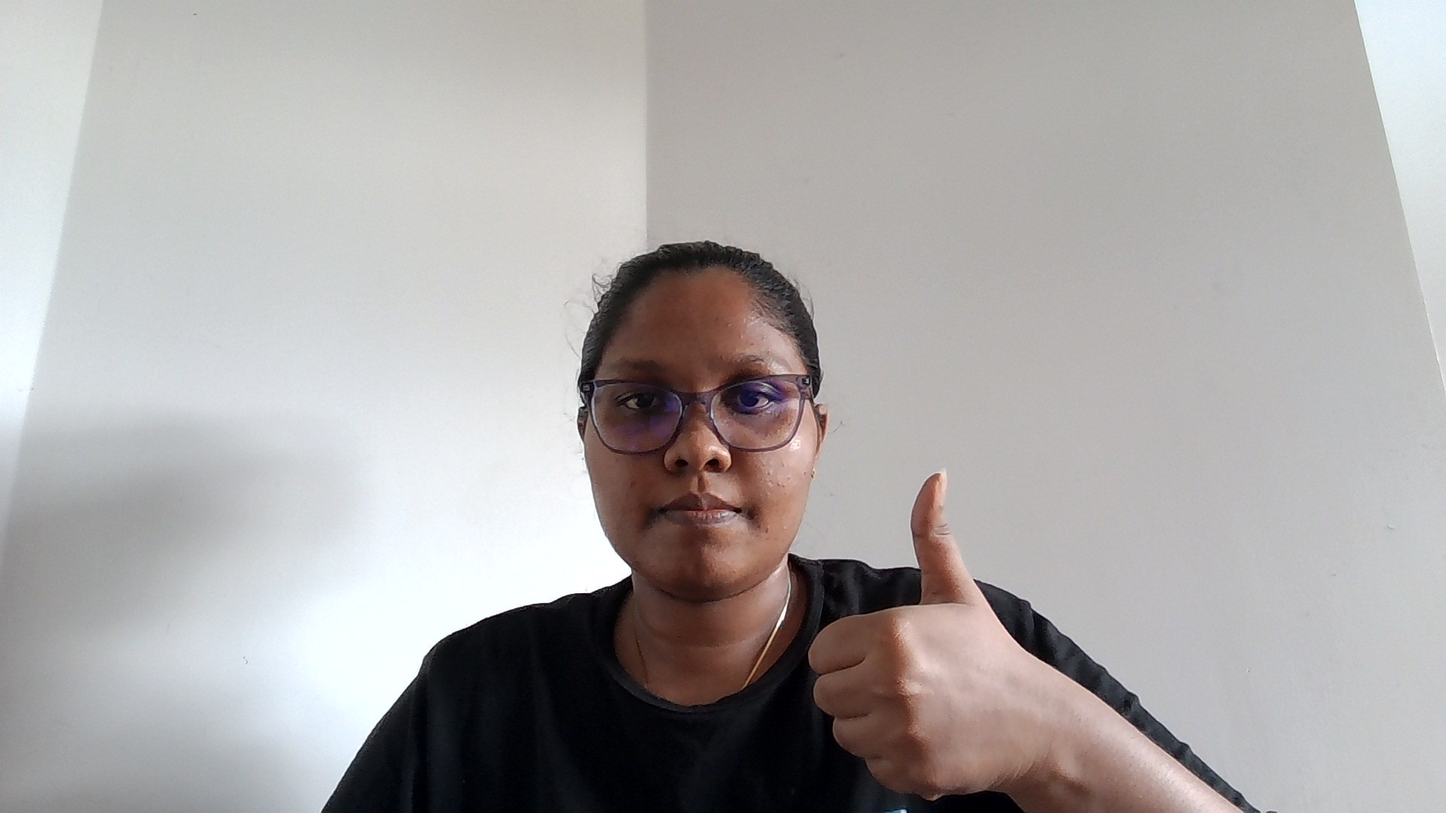Thumbs Up: (789, 407, 1152, 792)
